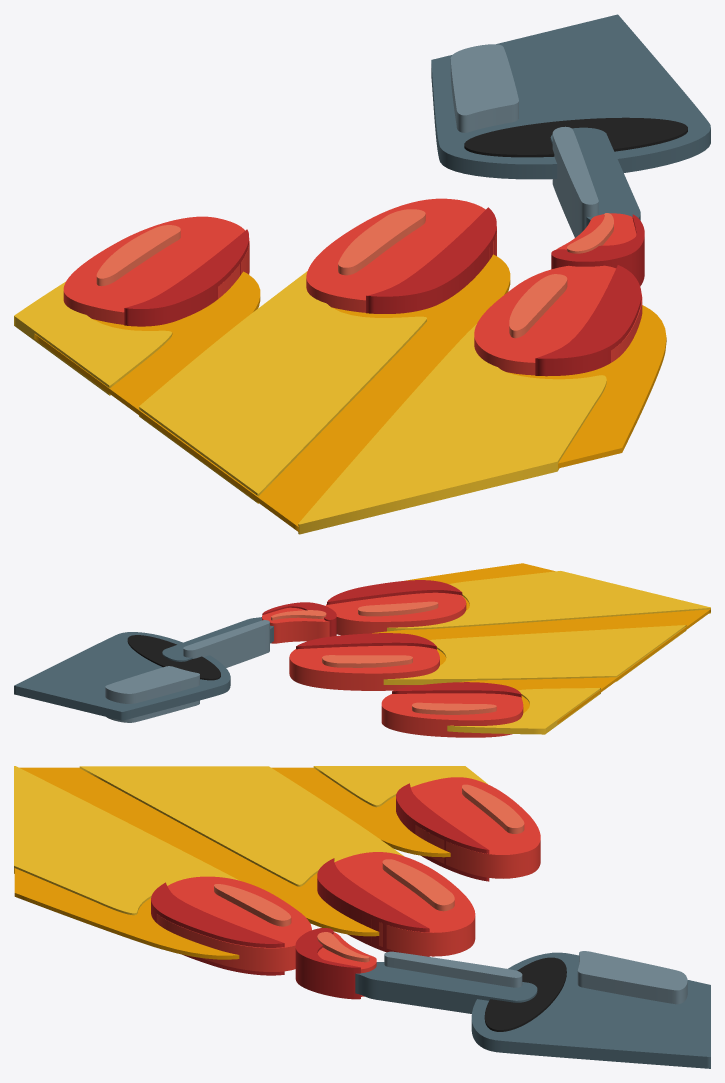
File: emoji_u1f485.glb
The picture shows the model from 3 angles, top to bottom: view 1: azimuth 30°, elevation 25°; view 2: azimuth 150°, elevation 25°; view 3: azimuth 270°, elevation 25°; orthographic projection. The views are drawn at different scales.
Parts seen in each view (by area): view 1: emoji_u1f485; view 2: emoji_u1f485; view 3: emoji_u1f485.
Part boxes in pixels (<box>): emoji_u1f485: <box>14,14,710,534</box>; emoji_u1f485: <box>14,563,710,737</box>; emoji_u1f485: <box>14,766,710,1068</box>.
Size of the model in its own units: 0.0319 by 0.002 by 0.032.
